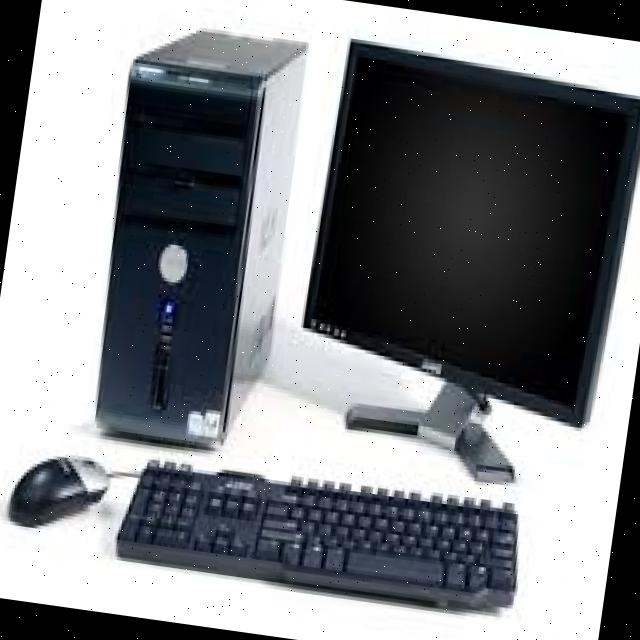Computer: (66, 12, 320, 466)
Monitor: (292, 25, 640, 442)
